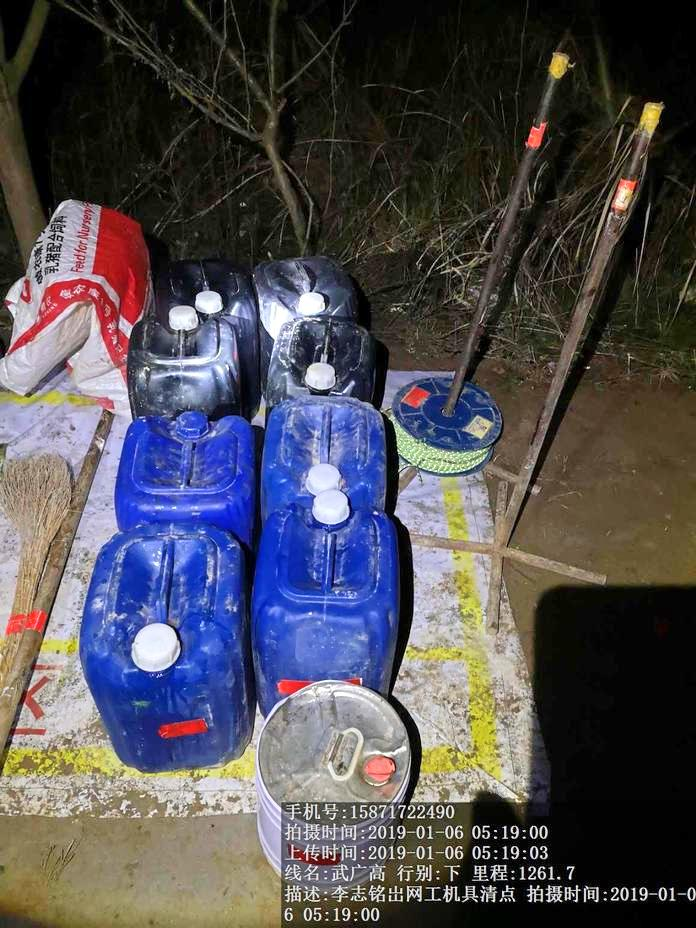SLT: (72, 528, 254, 773), (248, 508, 406, 674), (125, 408, 254, 520), (261, 318, 399, 406), (262, 396, 387, 493), (126, 307, 249, 389)
